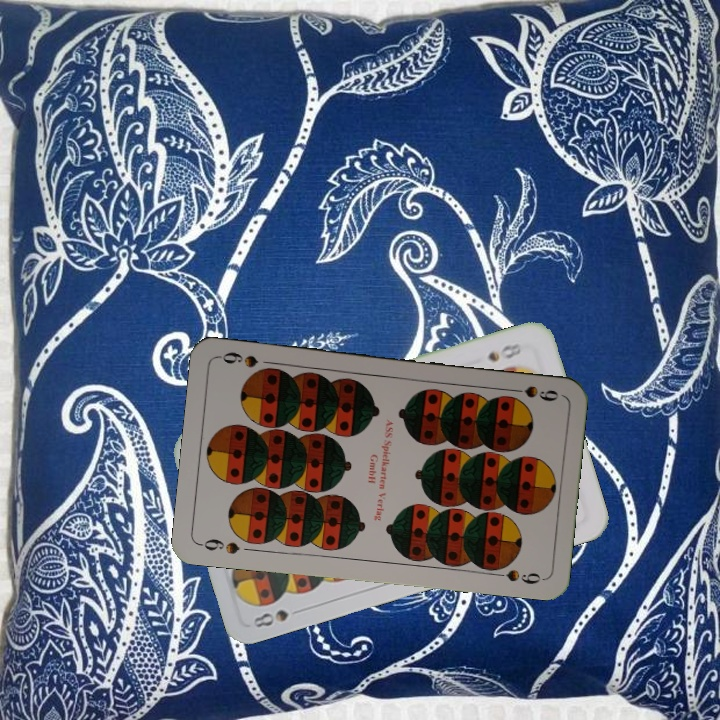S8: (249, 604, 307, 631), (484, 339, 527, 365)
S9: (503, 381, 561, 404), (196, 534, 243, 556)
